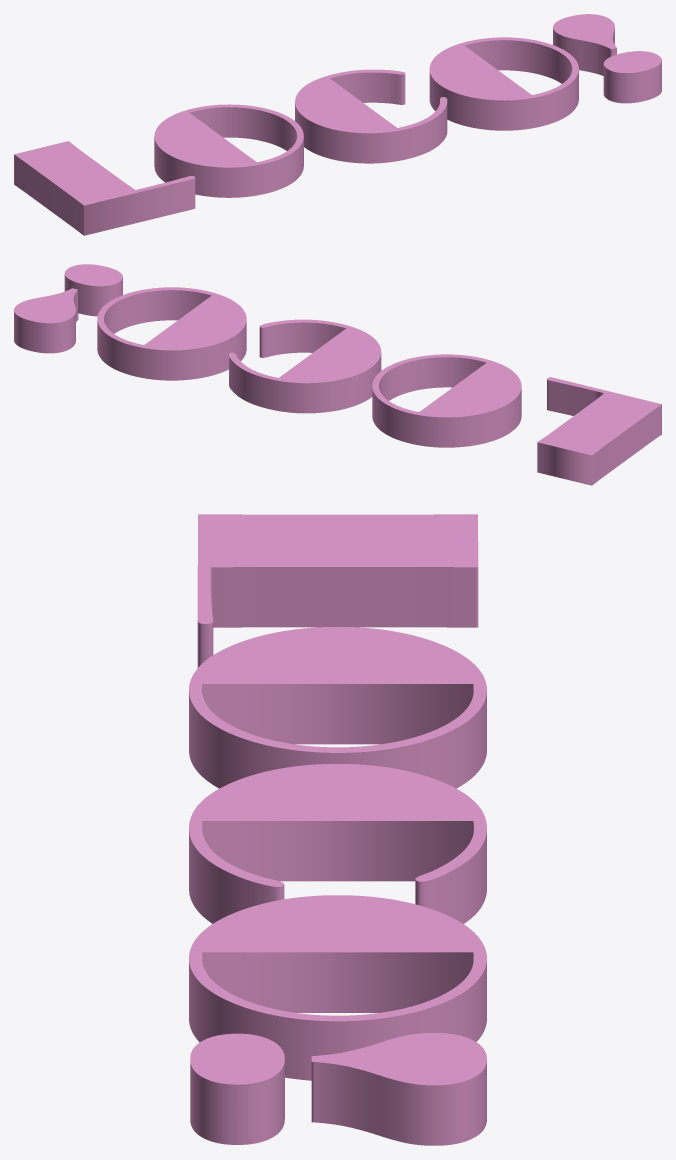
File: asset.glb
3 renders of one model, top to bottom at view 1: azimuth 30°, elevation 25°; view 2: azimuth 150°, elevation 25°; view 3: azimuth 270°, elevation 25°, orthographic. The views are drawn at different scales.
Visible parts, largest first — view 1: テキスト; view 2: テキスト; view 3: テキスト.
Part boxes in pixels (box(x1,y1,x2,y2)): テキスト: box(14, 14, 661, 235); テキスト: box(14, 264, 661, 485); テキスト: box(189, 514, 486, 1145).
Bounding box in the file's own units: 2.84 × 0.14 × 0.6257.
